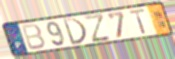7: (106, 10, 126, 39)
9: (46, 21, 66, 47)
B: (20, 23, 47, 52)
D: (61, 17, 88, 46)
T: (128, 8, 148, 36)
Z: (82, 12, 113, 44)
